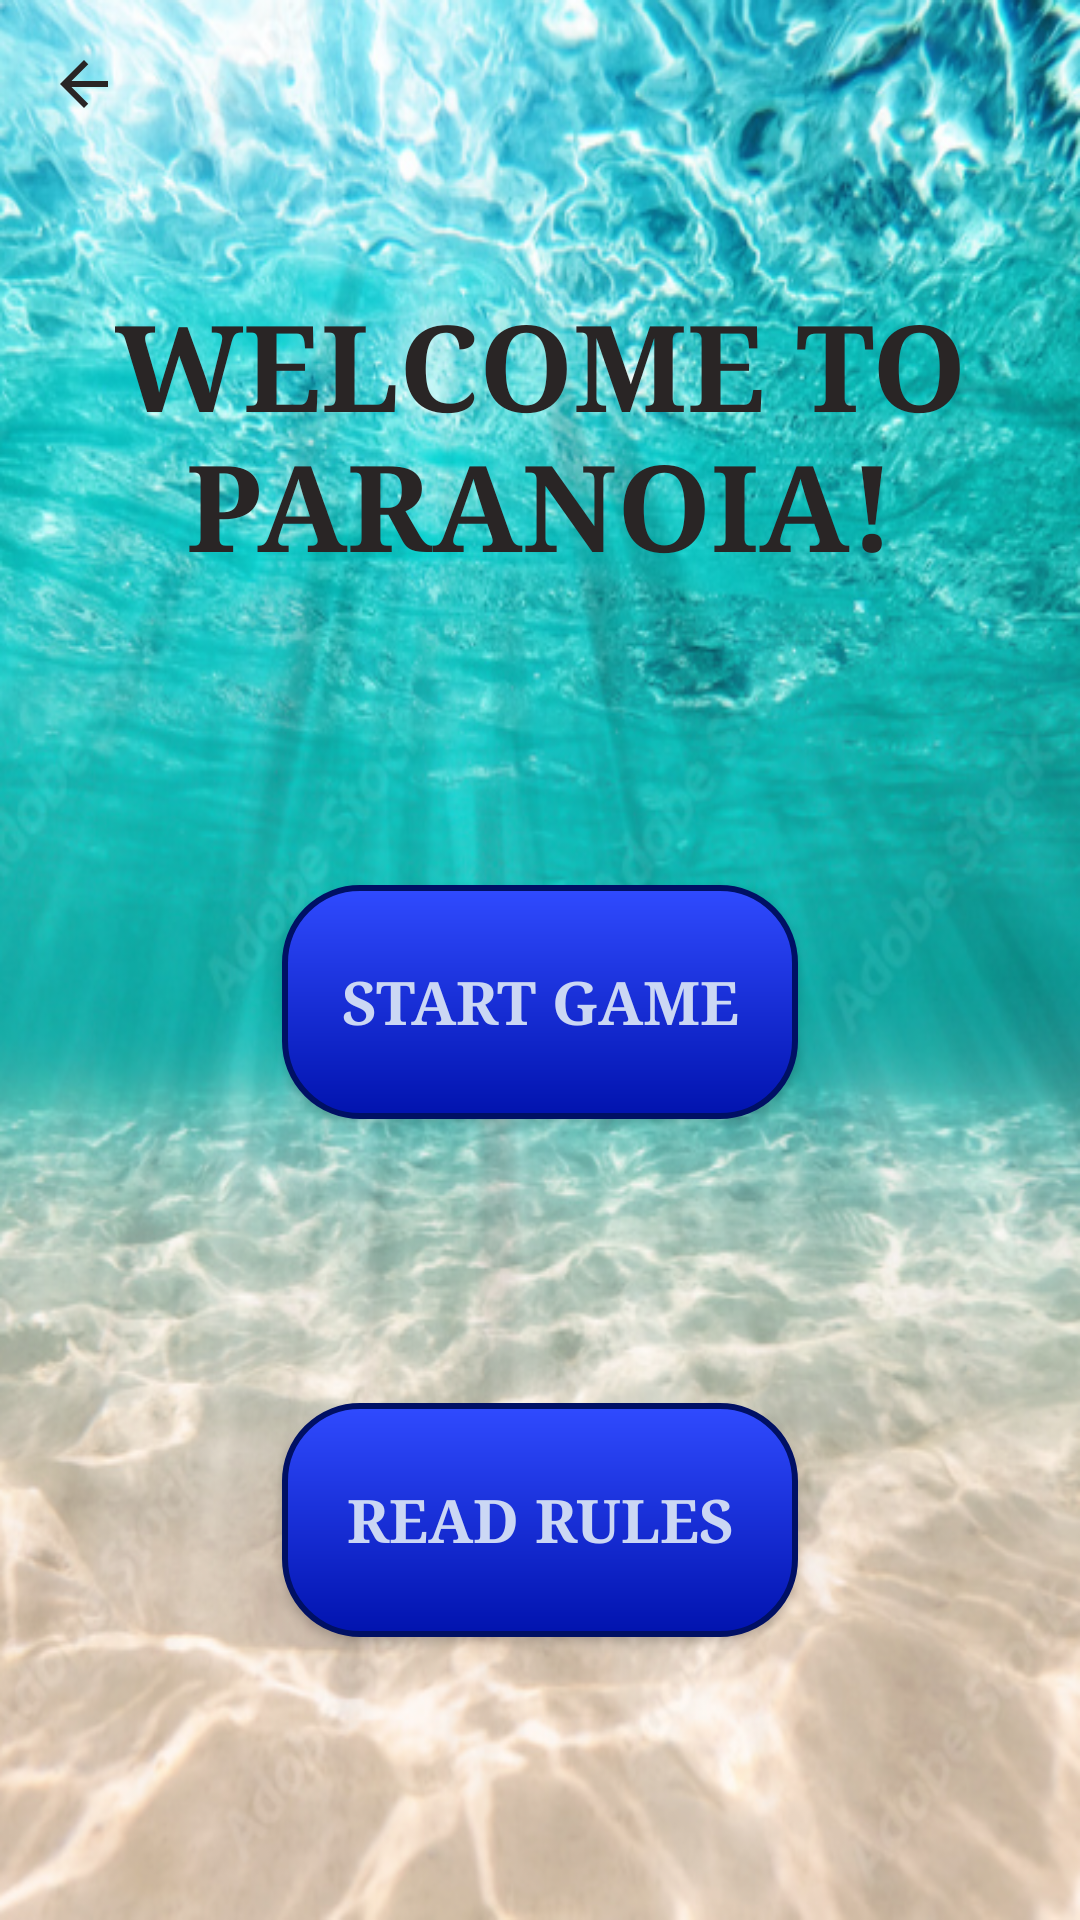

Icon click points for this 1080×1920 phone screenshot, format [x,y]:
Back: [84,84]
